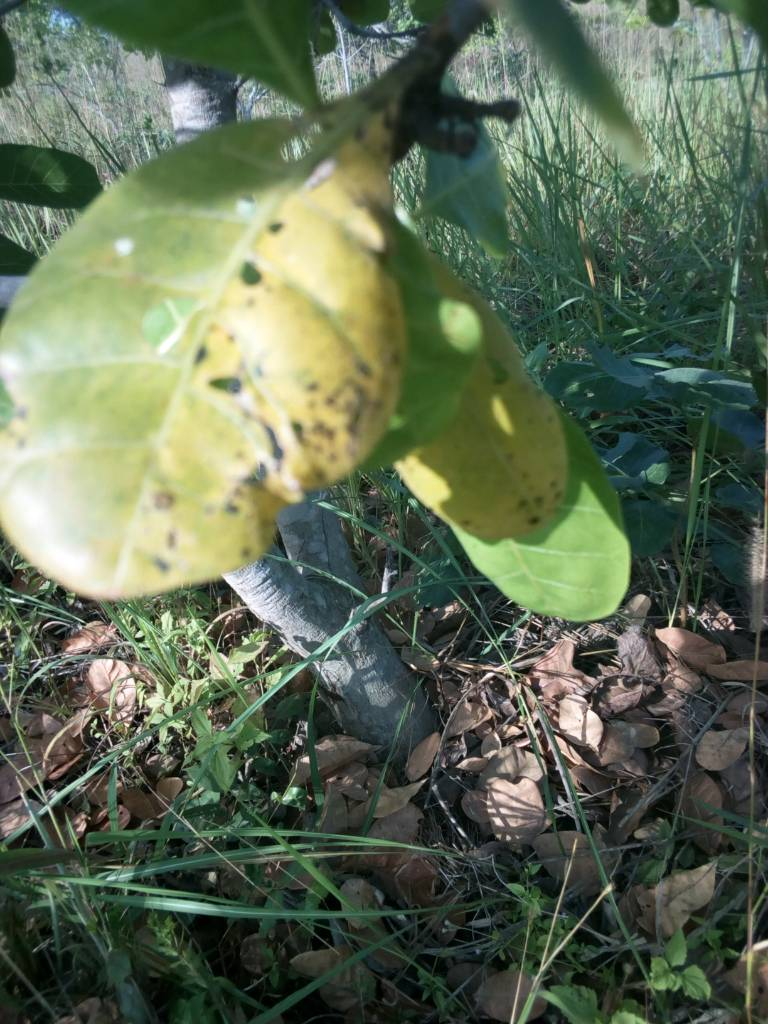Anthracnose: (1, 100, 402, 596), (422, 405, 577, 538)
